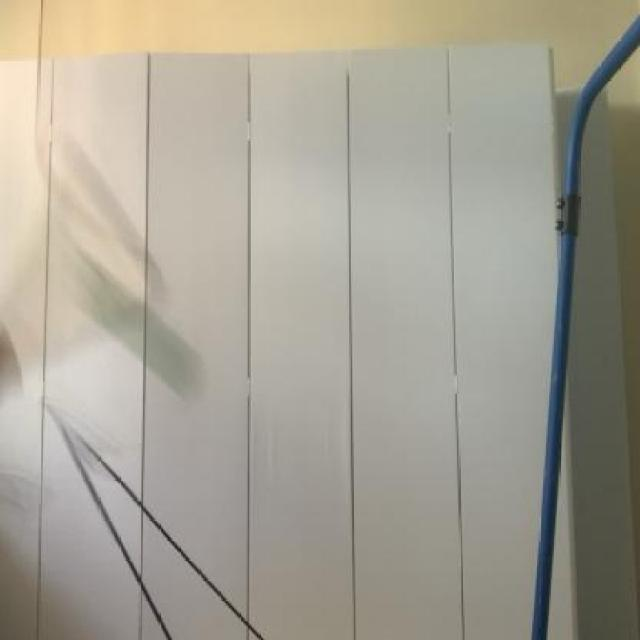baseball: (81, 258, 199, 409)
